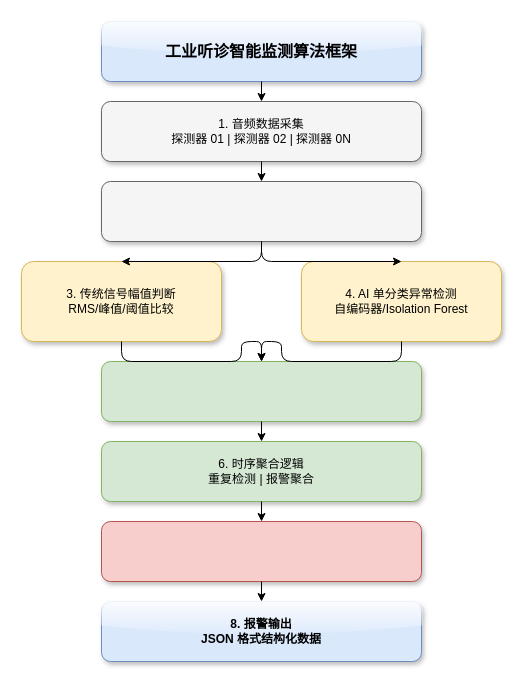
Some shapes in this 525 by 686 pixel diagram are drawn without their labels. Here are the shapes that lost their labels. From the top down, the centre of each, then its label:
(262,212): 2. 音频预处理 降噪 | 分帧 | 加窗 | STFT
(262,392): 5. 多源融合判断 逻辑与/或 | 加权融合
(262,552): 7. 故障严重程度评估 持续时间 | 幅度 | 置信度
